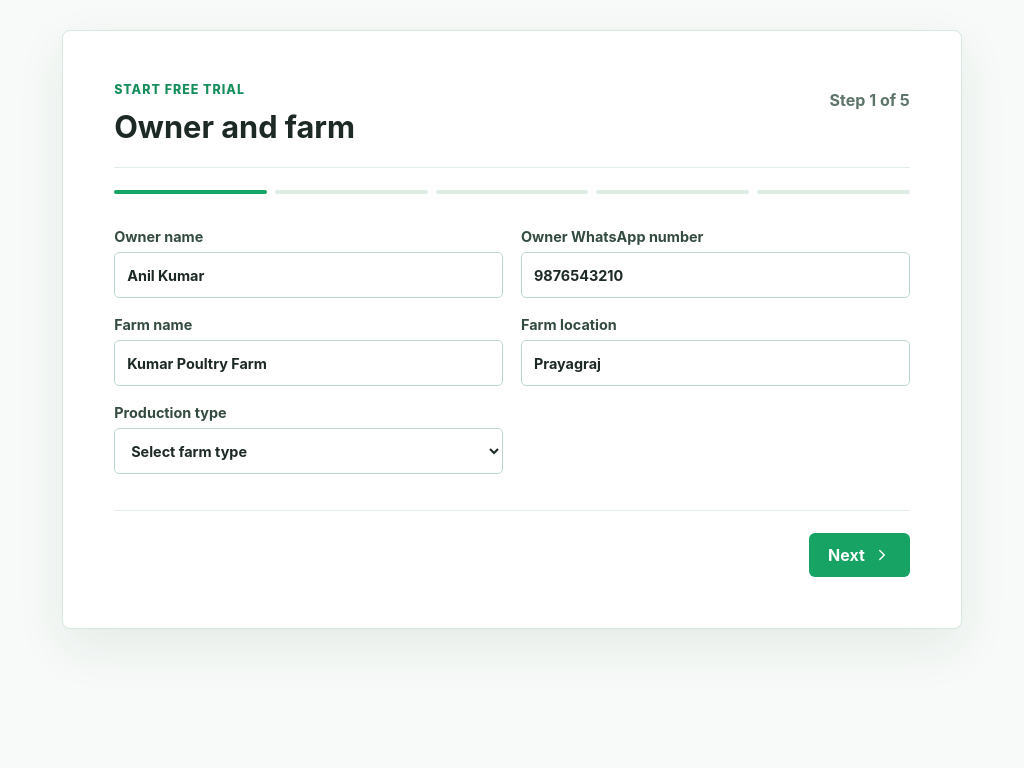
Test case: TrialForm › blocks the first step until a production mode is selected
The image size is (1024, 768).
Click the button "Next" at (859, 555), box [809, 533, 910, 577]
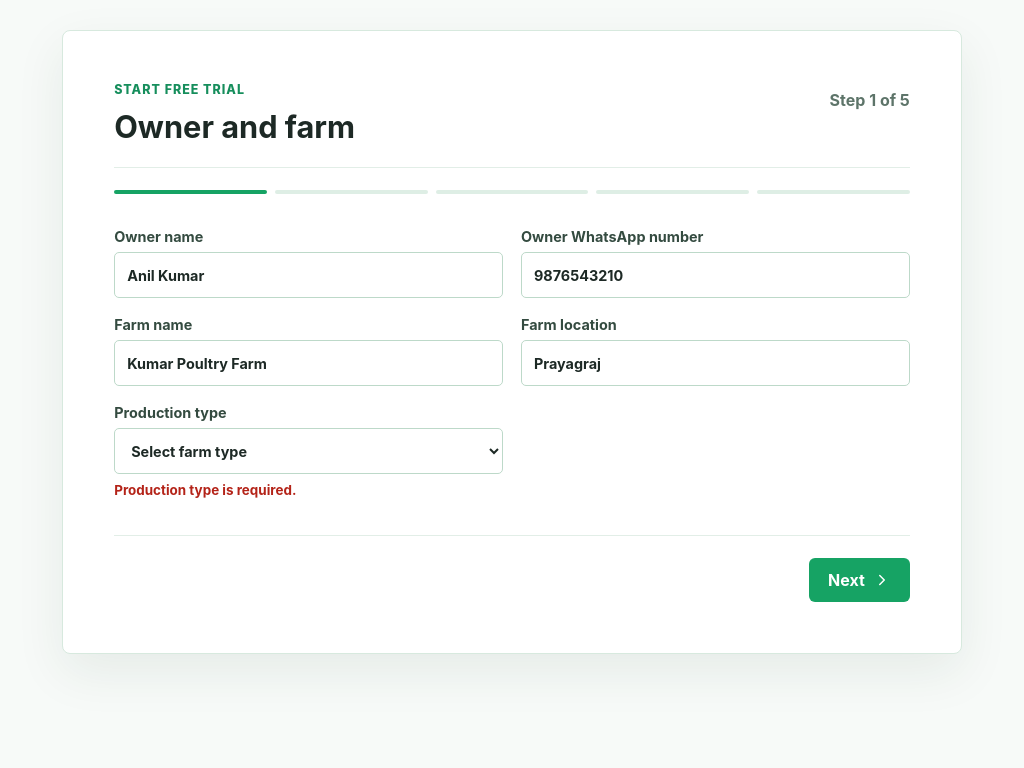
Expected: the text "Production type is required." is shown, [114, 482, 296, 498]
